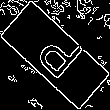P_SW: (26, 24, 84, 86)
